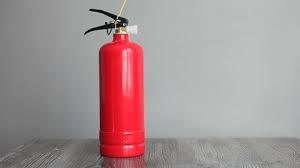floor-kept: (77, 4, 171, 161)
